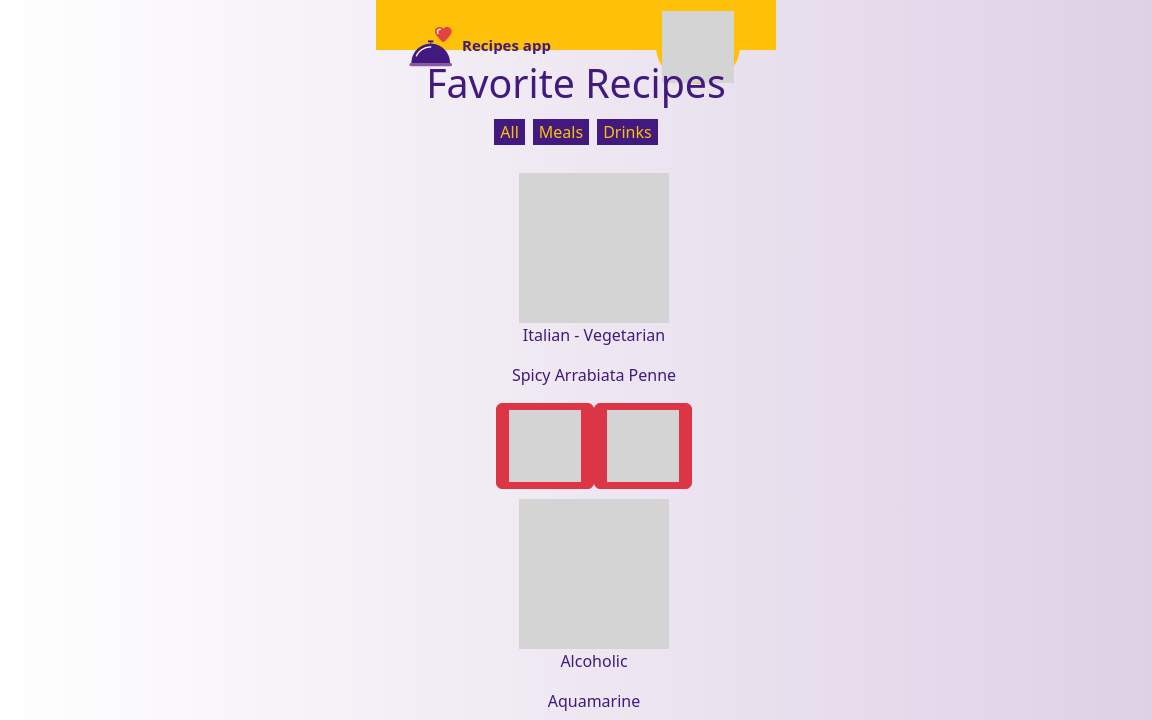
Test: Testes para a page "FavoriteRecipes" › Se ao clicar nos filtros, as receitas são filtradas corretamente
The width and height of the screenshot is (1152, 720).
expect the button with test id "filter-by-all-btn" is shown: met, box x1=494 y1=119 x2=525 y2=145
expect the button with test id "filter-by-drink-btn" is shown: met, box x1=597 y1=119 x2=658 y2=145
Click the button with test id "filter-by-meal-btn".
click(561, 132)  # box x1=533 y1=119 x2=589 y2=145
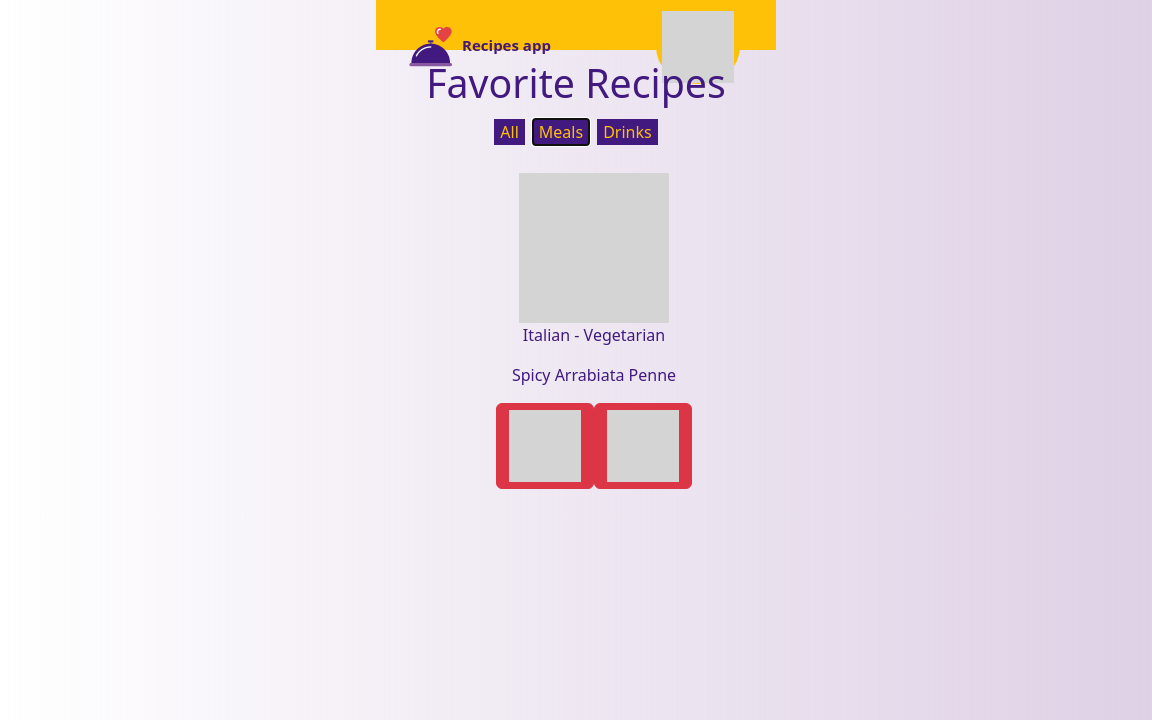
expect the text "Spicy Arrabiata Penne" is shown: met, box x1=512 y1=364 x2=676 y2=386
expect the link "Aquamarine" is gone: met
Click the button with test id "filter-by-drink-btn".
click(627, 132)  # box x1=597 y1=119 x2=658 y2=145
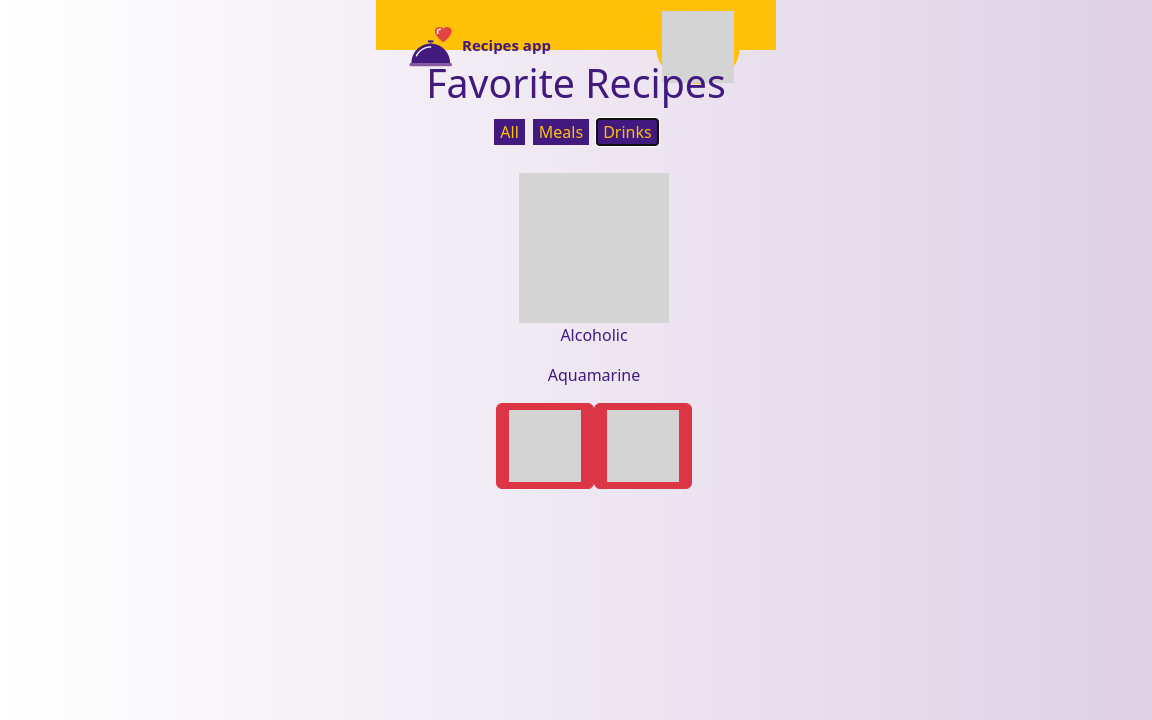
expect the link "Spicy Arrabiata Penne" is gone: met
expect the text "Aquamarine" is shown: met, box x1=548 y1=364 x2=640 y2=386
Click the button with test id "filter-by-all-btn".
click(510, 132)  # box x1=494 y1=119 x2=525 y2=145
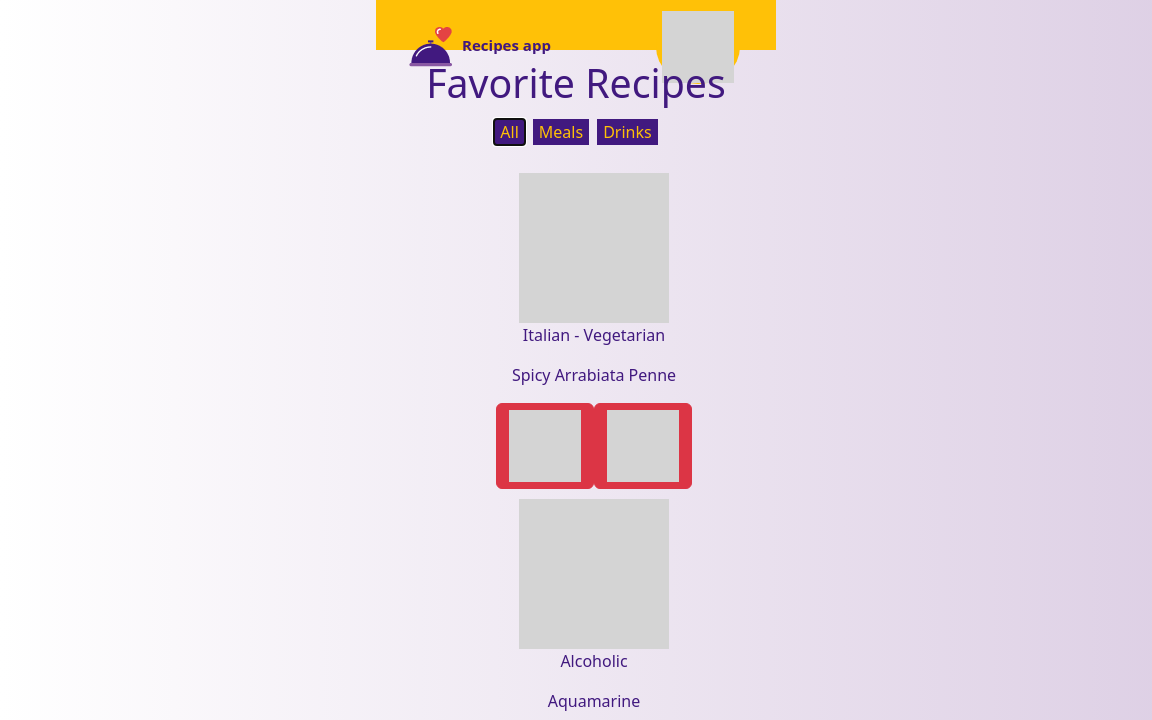
expect the text "Aquamarine" is shown: met, box x1=548 y1=690 x2=640 y2=712
expect the text "Spicy Arrabiata Penne" is shown: met, box x1=512 y1=364 x2=676 y2=386
